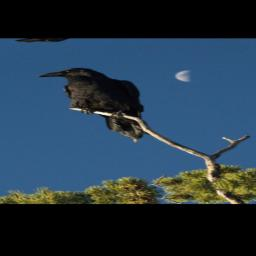Crow: (32, 63, 173, 149)
